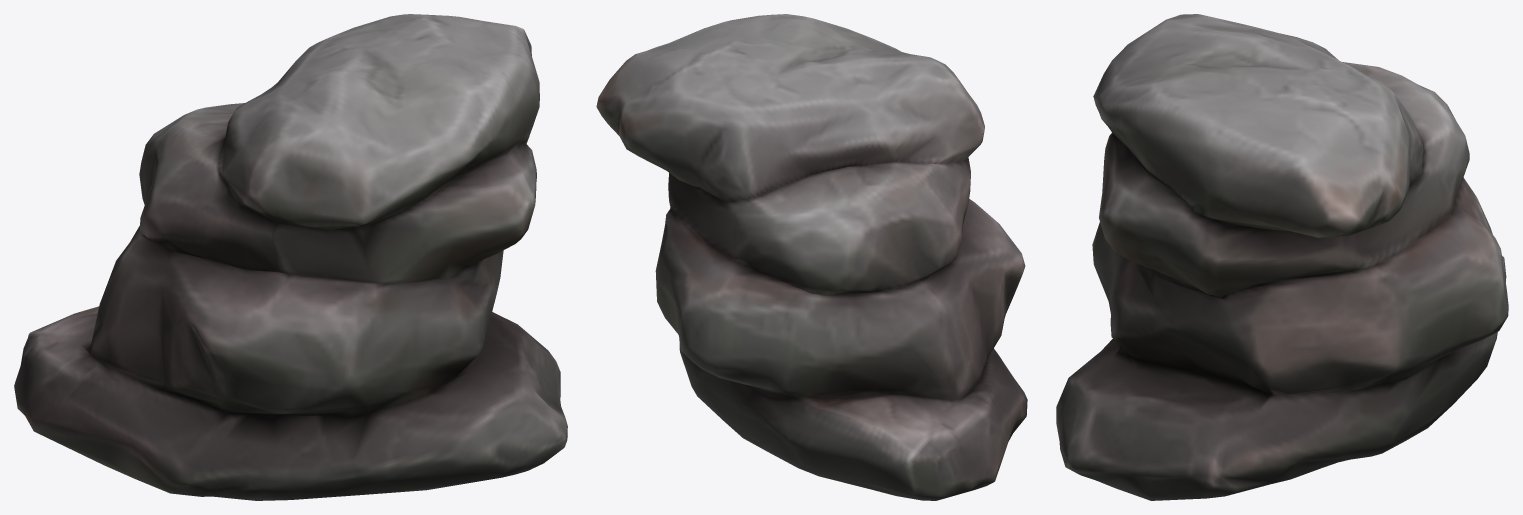
Rendered from o3_roccia_12.glb.
3 views of the same model, side by side, from view 1: azimuth 30°, elevation 25°; view 2: azimuth 150°, elevation 25°; view 3: azimuth 270°, elevation 25° (orthographic). The views are drawn at different scales.
Parts seen in each view (by area): view 1: sb_modello; view 2: sb_modello; view 3: sb_modello.
Boxes of the visible parts, bbox=[...] form: sb_modello: bbox=[14, 14, 567, 500]; sb_modello: bbox=[596, 14, 1027, 500]; sb_modello: bbox=[1056, 14, 1508, 500].
Size of the model in its own units: 3.64 by 2.86 by 2.92.
Materials: 1 (1 with a texture image).
